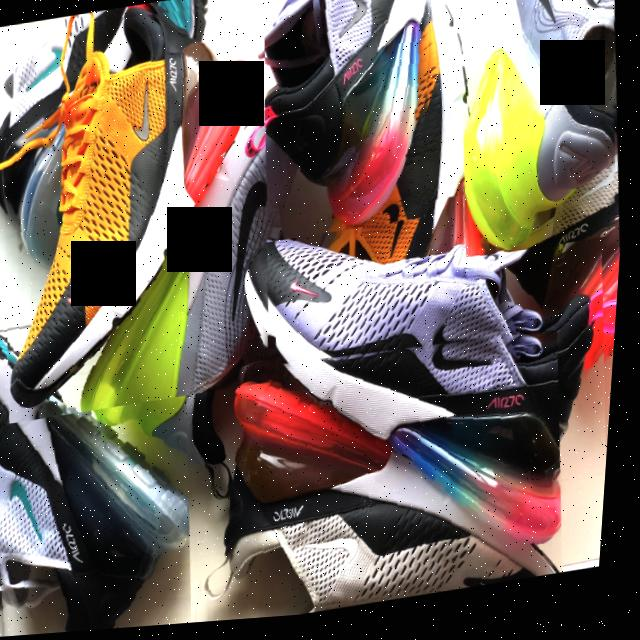shoe: (221, 181, 629, 606), (40, 82, 346, 532), (0, 0, 298, 426), (177, 323, 584, 628), (0, 266, 219, 640), (241, 0, 452, 248), (443, 0, 637, 267)
